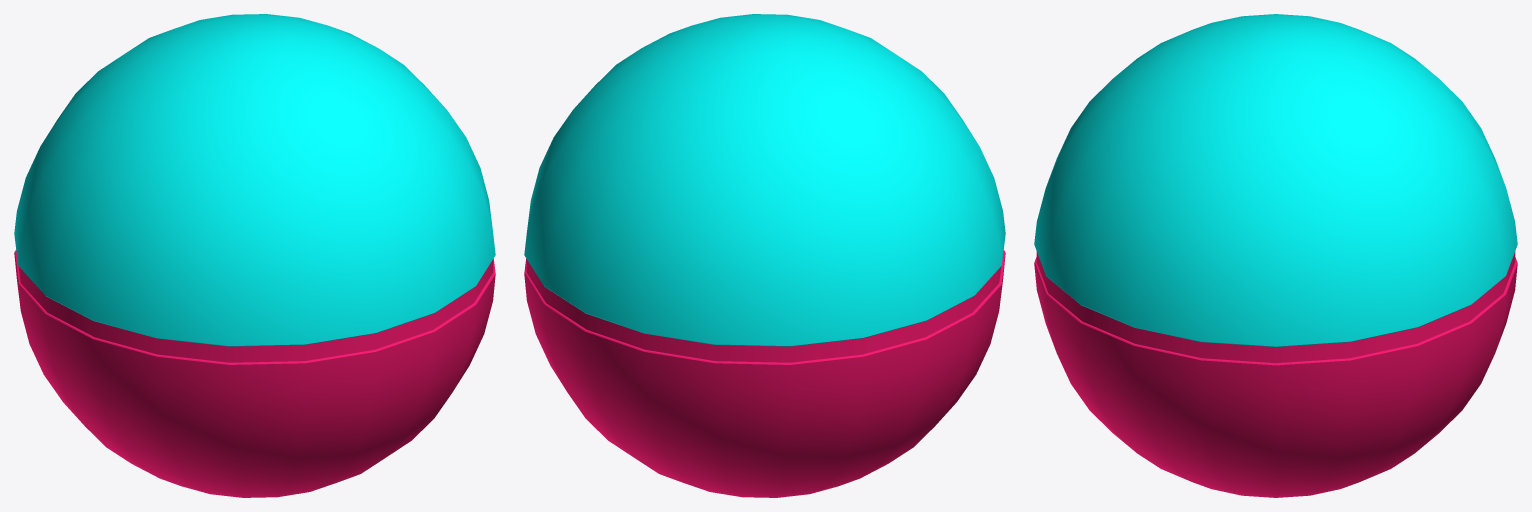
Rendered from Red_Incubator_01.3bce774c.gltf.
3 views of the same model, side by side, from view 1: azimuth 30°, elevation 25°; view 2: azimuth 150°, elevation 25°; view 3: azimuth 270°, elevation 25° (orthographic).
Parts seen in each view (by area): view 1: pSphere1; view 2: pSphere1; view 3: pSphere1.
Boxes of the visible parts, x1=… form: pSphere1: x1=14, y1=14, x2=495, y2=497; pSphere1: x1=524, y1=14, x2=1005, y2=497; pSphere1: x1=1034, y1=14, x2=1517, y2=497.
Bounding box in the file's own units: 4.99 × 4.99 × 4.99.
